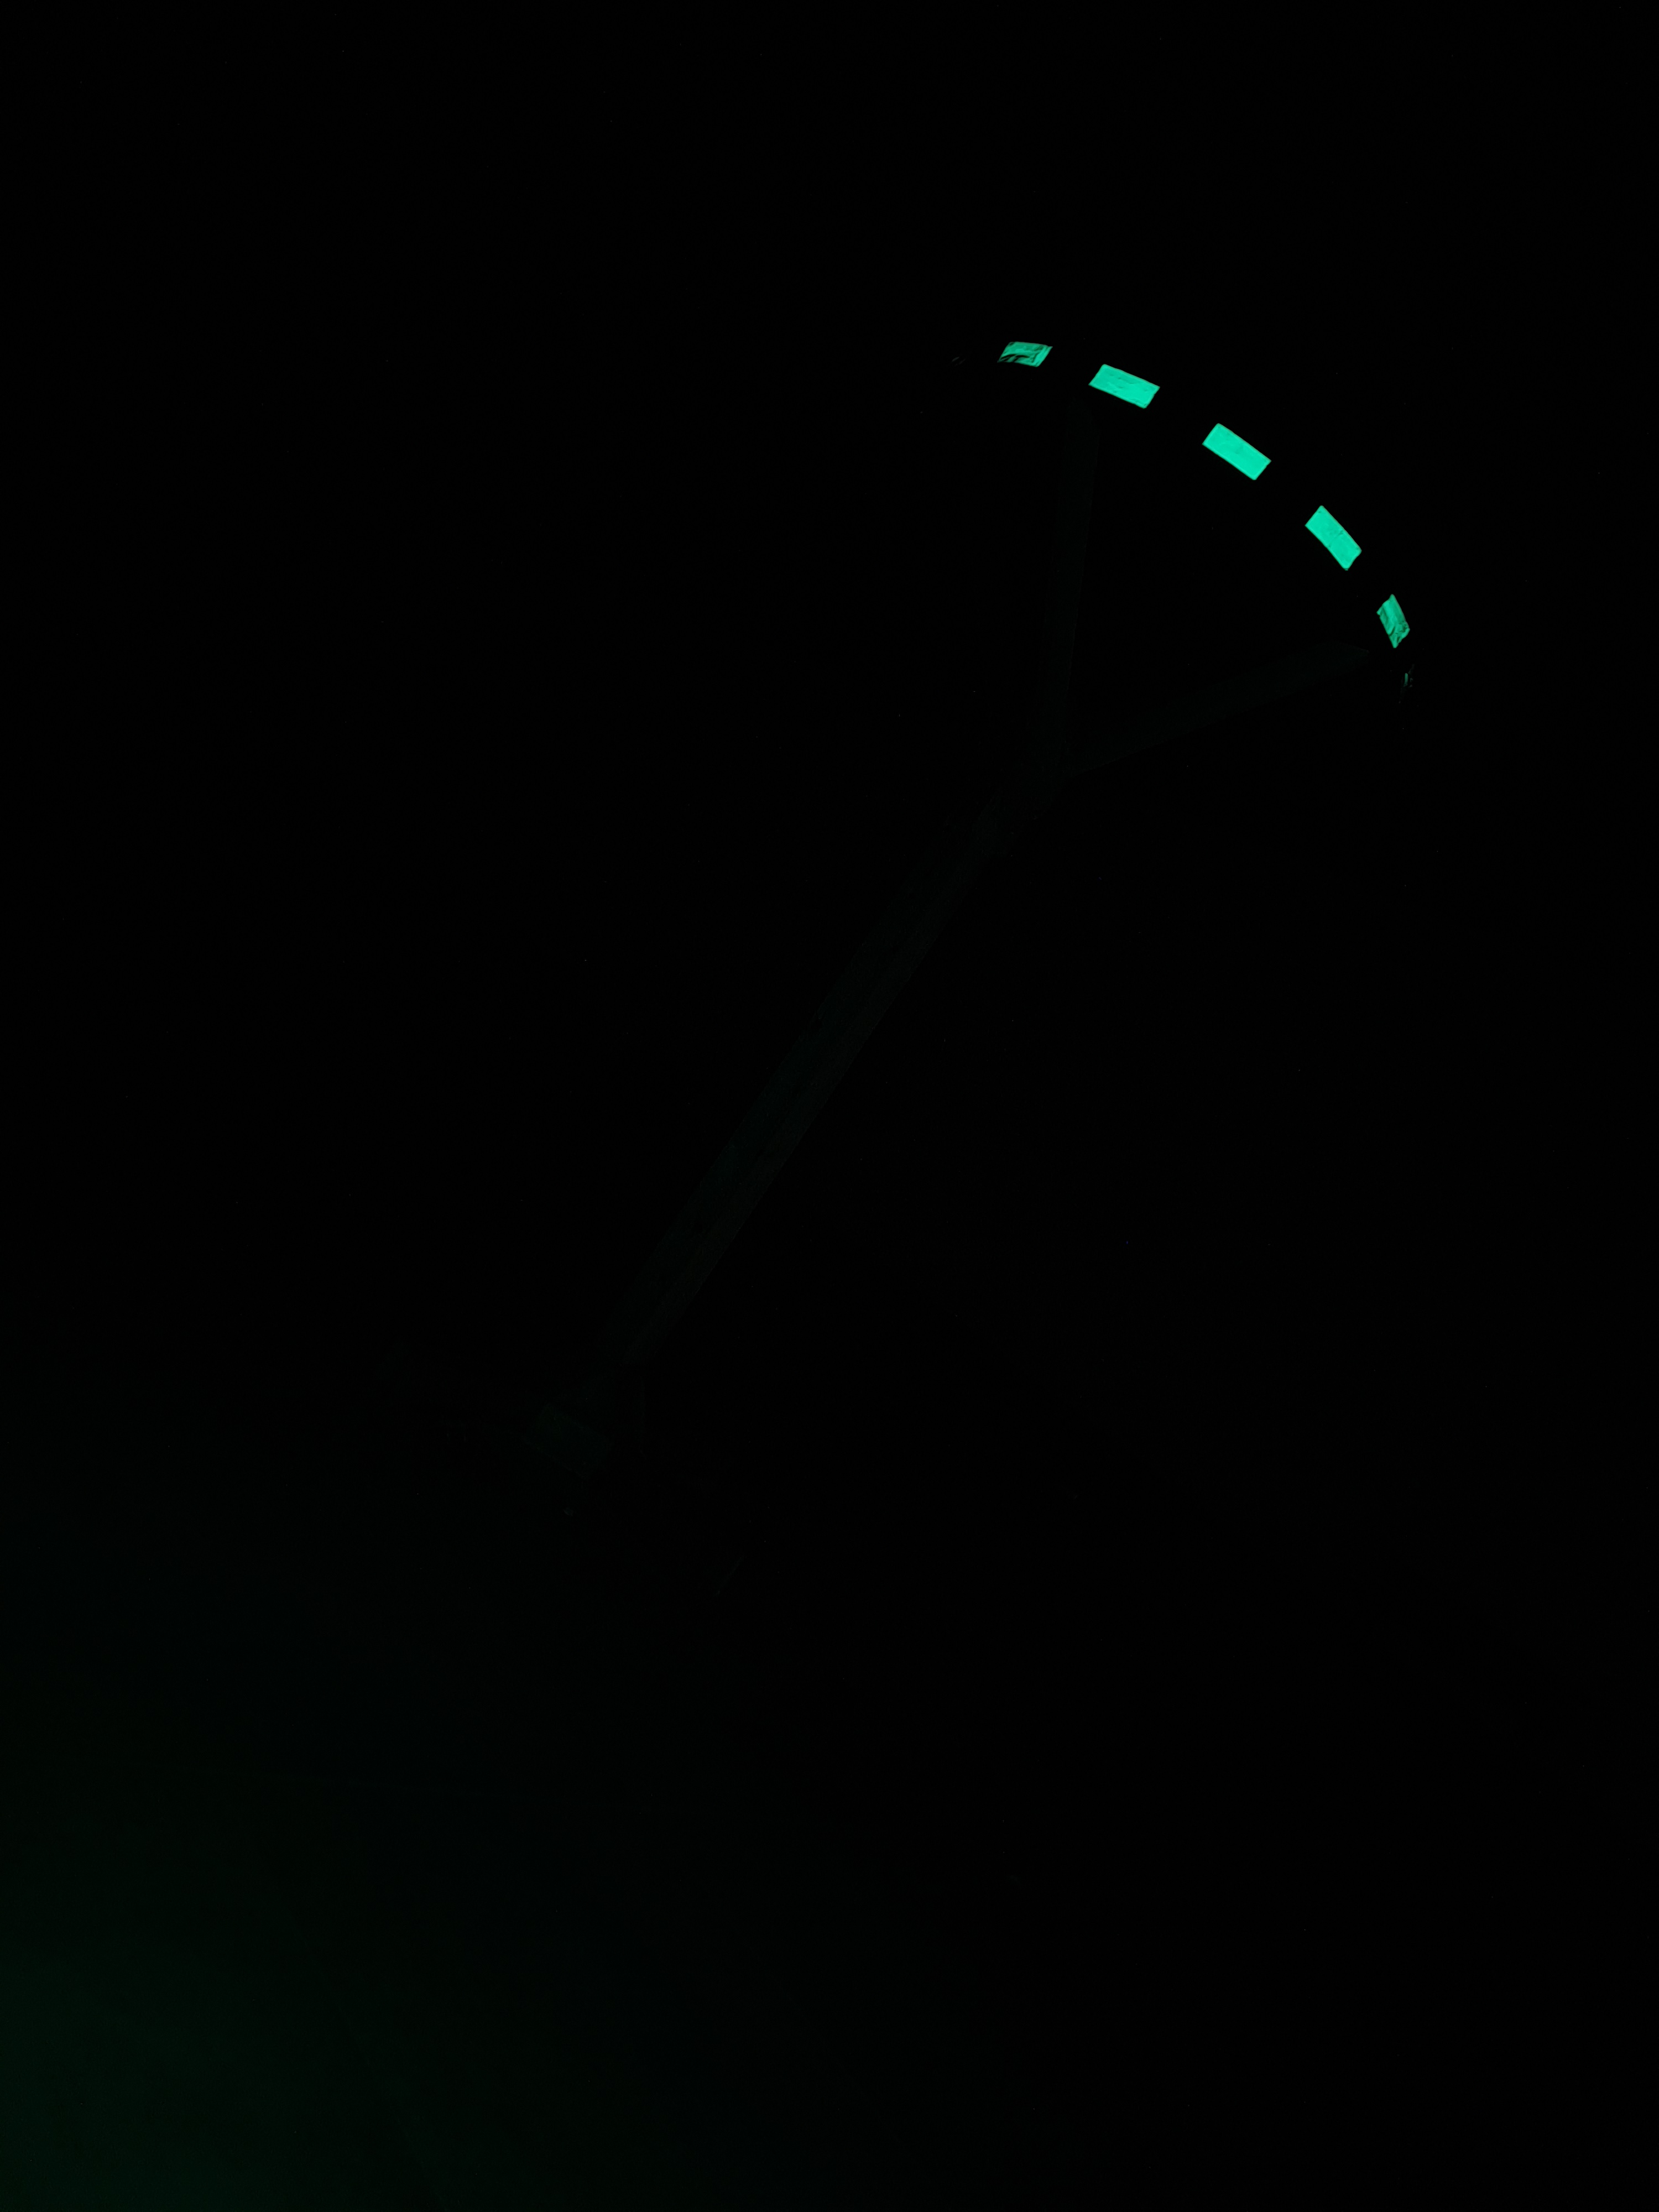hoop: (1000, 334, 1412, 655)
